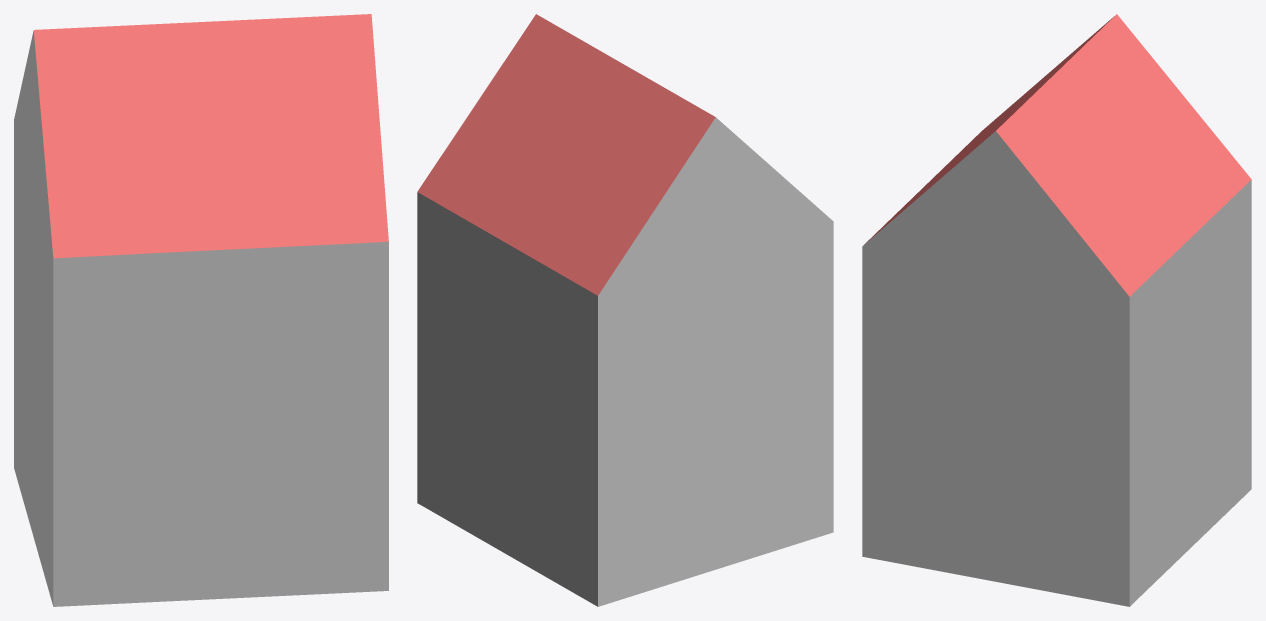
File: DEBY_LOD2_4907186.gltf
3 views of the same model, side by side, from view 1: azimuth 30°, elevation 25°; view 2: azimuth 150°, elevation 25°; view 3: azimuth 270°, elevation 25° (orthographic). The views are drawn at different scales.
Visible parts, largest first — view 1: Z_UP; view 2: Z_UP; view 3: Z_UP.
Part boxes in pixels (left/top/right/bottom): Z_UP: left=14, top=14, right=388, bottom=606; Z_UP: left=417, top=14, right=833, bottom=606; Z_UP: left=862, top=14, right=1251, bottom=606.
Size of the model in its own units: 17.16 by 21.67 by 16.96.
